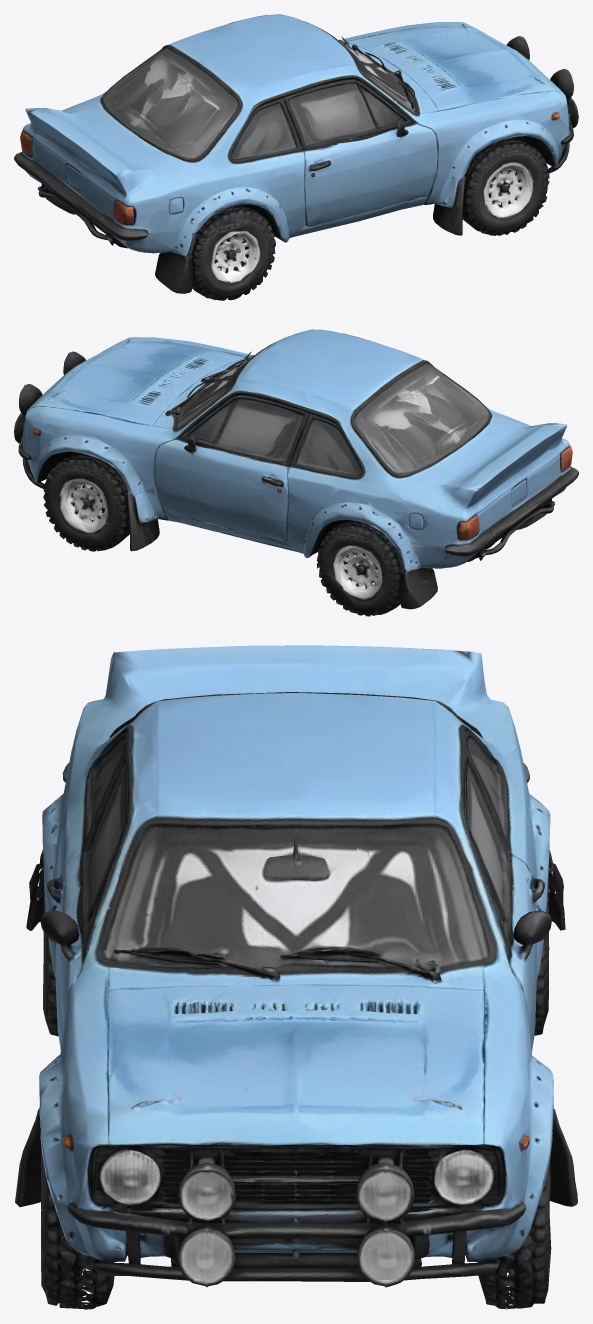
File: kz_kestrel_drive.glb
The picture shows the model from 3 angles, top to bottom: view 1: azimuth 30°, elevation 25°; view 2: azimuth 150°, elevation 25°; view 3: azimuth 270°, elevation 25°; orthographic projection. The views are drawn at different scales.
Visible parts, largest first — view 1: body, wheel_FR_part, wheel_RR_part; view 2: body, wheel_FL_part, wheel_RL_part; view 3: body, wheel_FR_part, wheel_FL_part, wheel_RR_part, wheel_RL_part.
Boxes of the visible parts, x1,y1,x2,y2 form: body: [14, 14, 578, 293]; wheel_FR_part: [462, 137, 549, 235]; wheel_RR_part: [191, 204, 275, 300]; body: [14, 329, 578, 609]; wheel_FL_part: [43, 452, 129, 551]; wheel_RL_part: [316, 522, 400, 616]; body: [15, 645, 577, 1309]; wheel_FR_part: [40, 1148, 114, 1309]; wheel_FL_part: [477, 1159, 551, 1309]; wheel_RR_part: [37, 867, 58, 1036]; wheel_RL_part: [534, 869, 555, 1035].
Bounding box in the file's own units: 1.9 × 0.7121 × 0.9535.
Materials: 4 (4 with a texture image).
